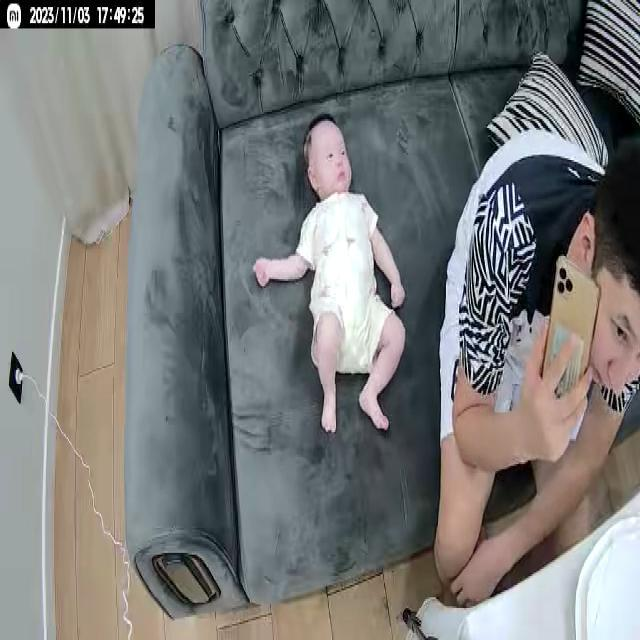baby: (250, 109, 408, 446)
